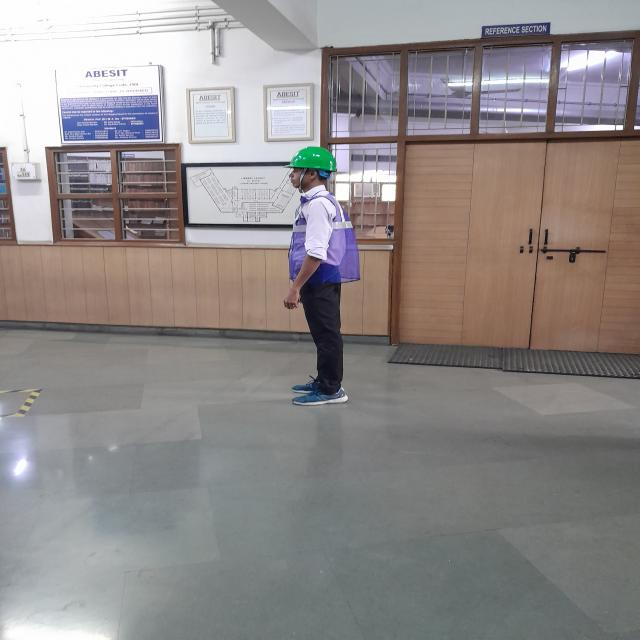safe: (285, 147, 358, 405)
